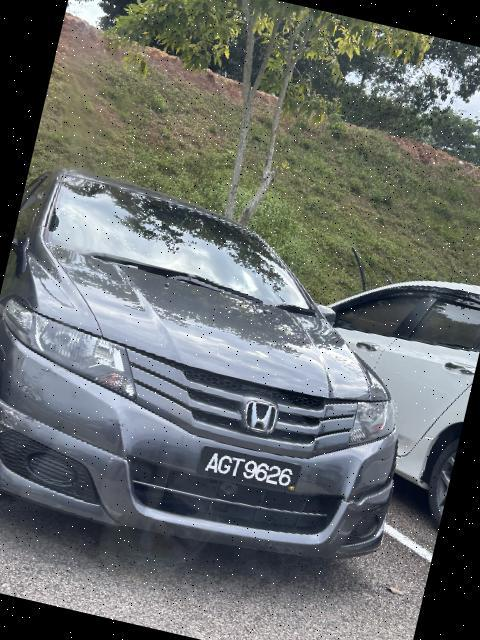AGT9626: (191, 445, 304, 501)
License_Plate: (191, 445, 304, 501)
car: (1, 161, 449, 586)
